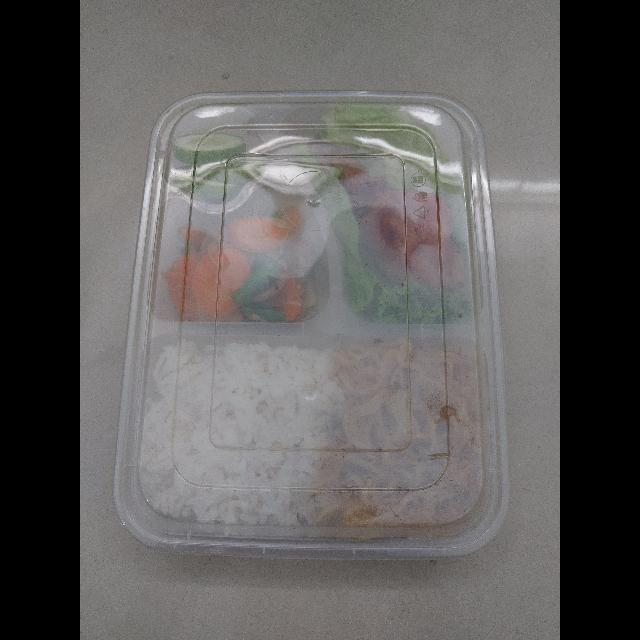bento: (106, 93, 525, 556)
